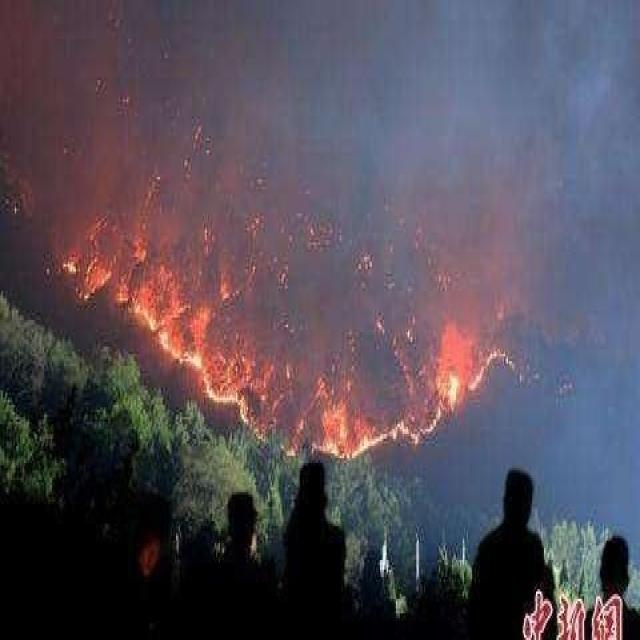fire: (39, 178, 527, 458)
smoke: (113, 36, 622, 165)
